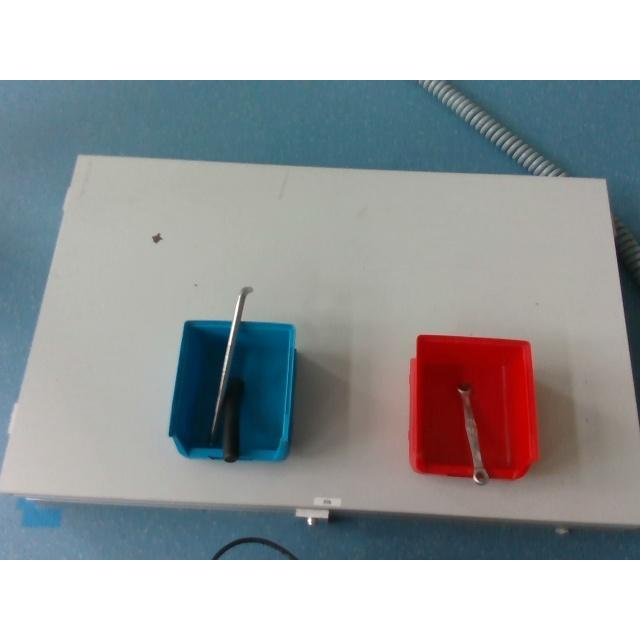AllenKey: (210, 286, 253, 438)
M20_100: (220, 378, 243, 462)
Wrench: (456, 382, 490, 486)
container_box_blue: (170, 320, 294, 460)
container_box_red: (409, 333, 538, 482)
